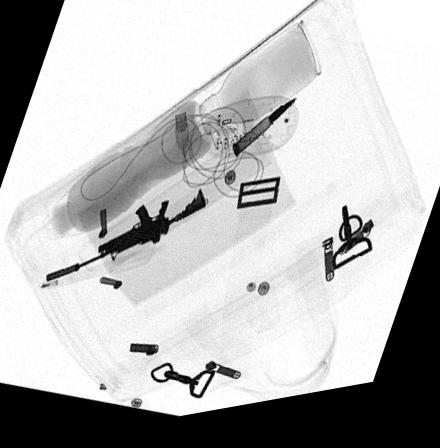Bullet: (231, 108, 295, 164)
Gun: (45, 195, 205, 282)
